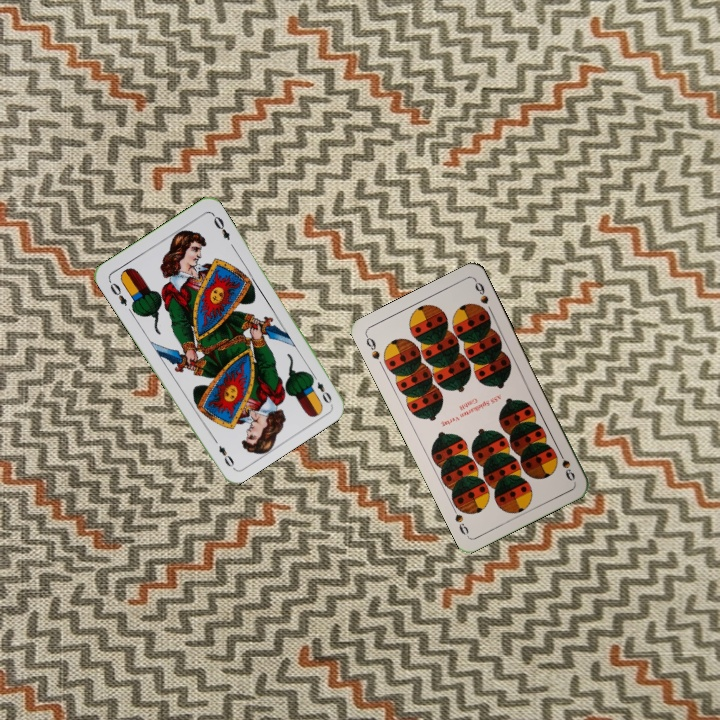EO: (307, 369, 334, 406), (105, 276, 130, 308)
S9: (554, 445, 578, 484), (361, 331, 382, 362)
